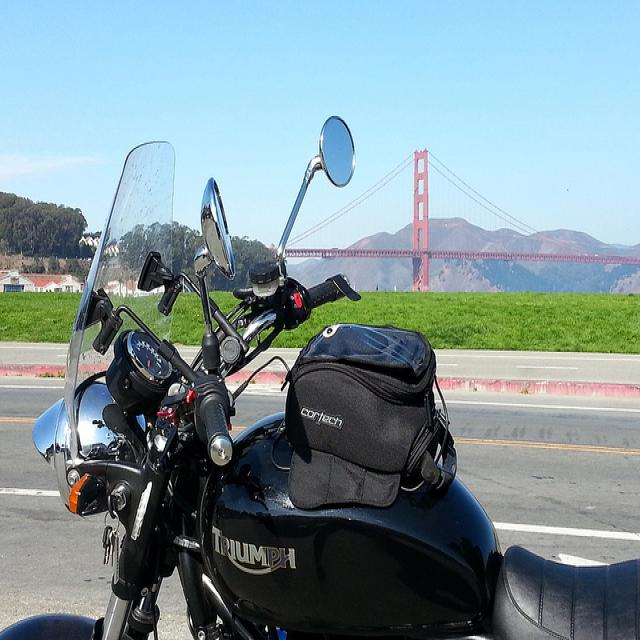motor: (1, 164, 638, 640)
